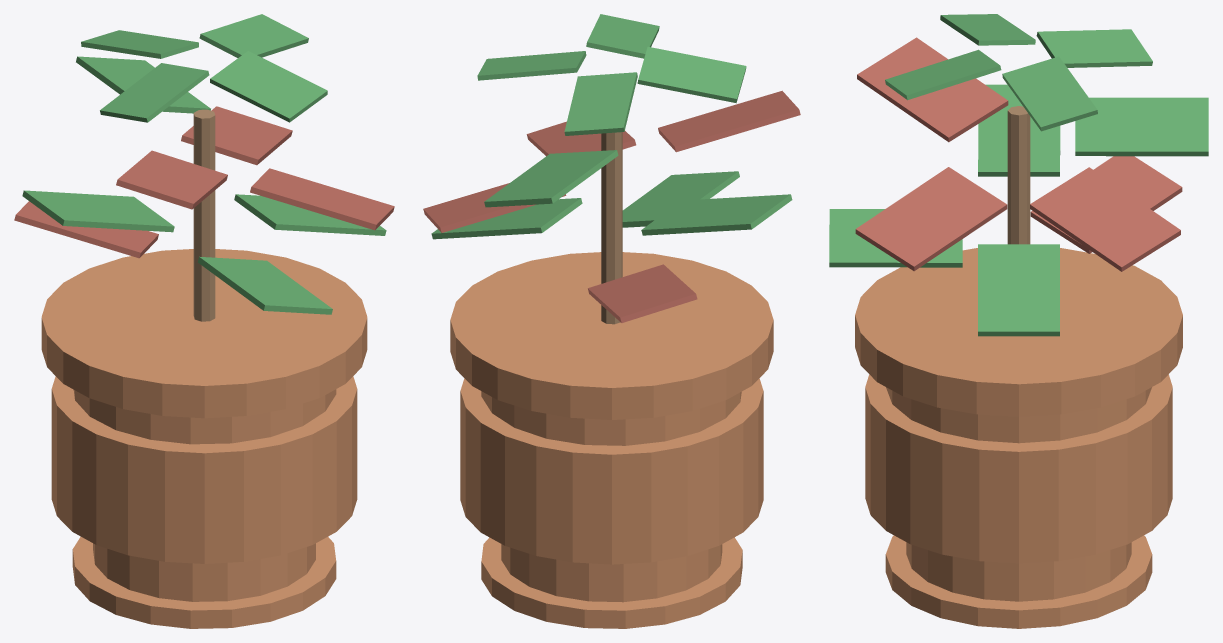
The model's file is prop_terracotta_planter_01.glb.
The picture shows the model from 3 angles, left to right: view 1: azimuth 30°, elevation 25°; view 2: azimuth 150°, elevation 25°; view 3: azimuth 270°, elevation 25°; orthographic projection.
Parts seen in each view (by area): view 1: Planter_Rim_Lip.003, Planter_Belly.003, Planter_Saucer.003, Planter_Base_Ring.003, Planter_Neck.003, Planter_Top_Leaf_3.003, Planter_Leaf_4.003, Planter_Leaf_6.003, Planter_Leaf_7.003, Planter_Stem_Central.003, Planter_Leaf_5.003, Planter_Top_Leaf_2.003 (+6 smaller); view 2: Planter_Rim_Lip.003, Planter_Belly.003, Planter_Saucer.003, Planter_Base_Ring.003, Planter_Neck.003, Planter_Top_Leaf_2.003, Planter_Leaf_4.003, Planter_Leaf_2.003, Planter_Leaf_5.003, Planter_Leaf_3.003, Planter_Top_Leaf_1.003, Planter_Stem_Central.003 (+6 smaller); view 3: Planter_Belly.003, Planter_Rim_Lip.003, Planter_Saucer.003, Planter_Leaf_7.003, Planter_Leaf_1.003, Planter_Base_Ring.003, Planter_Leaf_0.003, Planter_Leaf_2.003, Planter_Neck.003, Planter_Leaf_5.003, Planter_Top_Leaf_0.003, Planter_Leaf_4.003 (+6 smaller).
Part boxes in pixels (left/top/right/bottom): Planter_Rim_Lip.003: left=41, top=249, right=367, bottom=418; Planter_Belly.003: left=51, top=376, right=357, bottom=563; Planter_Saucer.003: left=72, top=537, right=336, bottom=628; Planter_Base_Ring.003: left=93, top=543, right=315, bottom=601; Planter_Neck.003: left=73, top=389, right=336, bottom=444; Planter_Top_Leaf_3.003: left=210, top=51, right=327, bottom=122; Planter_Leaf_4.003: left=22, top=190, right=174, bottom=232; Planter_Leaf_6.003: left=197, top=256, right=332, bottom=314; Planter_Leaf_7.003: left=250, top=168, right=394, bottom=230; Planter_Stem_Central.003: left=193, top=109, right=215, bottom=321; Planter_Leaf_5.003: left=116, top=150, right=227, bottom=209; Planter_Top_Leaf_2.003: left=100, top=63, right=209, bottom=122; Planter_Rim_Lip.003: left=450, top=252, right=773, bottom=419; Planter_Belly.003: left=460, top=378, right=763, bottom=564; Planter_Saucer.003: left=481, top=537, right=742, bottom=628; Planter_Base_Ring.003: left=501, top=544, right=722, bottom=602; Planter_Neck.003: left=481, top=391, right=741, bottom=445; Planter_Top_Leaf_2.003: left=637, top=46, right=746, bottom=103; Planter_Leaf_4.003: left=641, top=194, right=792, bottom=235; Planter_Leaf_2.003: left=484, top=150, right=618, bottom=207; Planter_Leaf_5.003: left=658, top=90, right=800, bottom=152; Planter_Leaf_3.003: left=588, top=264, right=697, bottom=322; Planter_Top_Leaf_1.003: left=564, top=72, right=637, bottom=135; Planter_Stem_Central.003: left=601, top=132, right=622, bottom=324; Planter_Belly.003: left=865, top=374, right=1172, bottom=563; Planter_Rim_Lip.003: left=855, top=248, right=1182, bottom=416; Planter_Saucer.003: left=885, top=535, right=1152, bottom=628; Planter_Leaf_7.003: left=855, top=167, right=1007, bottom=271; Planter_Leaf_1.003: left=1030, top=167, right=1180, bottom=271; Planter_Base_Ring.003: left=906, top=542, right=1131, bottom=601; Planter_Leaf_0.003: left=978, top=244, right=1059, bottom=336; Planter_Leaf_2.003: left=1075, top=97, right=1208, bottom=156; Planter_Neck.003: left=886, top=387, right=1151, bottom=443; Planter_Leaf_5.003: left=857, top=37, right=1008, bottom=142; Planter_Top_Leaf_0.003: left=1002, top=56, right=1097, bottom=131; Planter_Leaf_4.003: left=978, top=84, right=1060, bottom=176.
Size of what is drawn, in the model's own units: 0.7333 by 1.13 by 0.7403.
